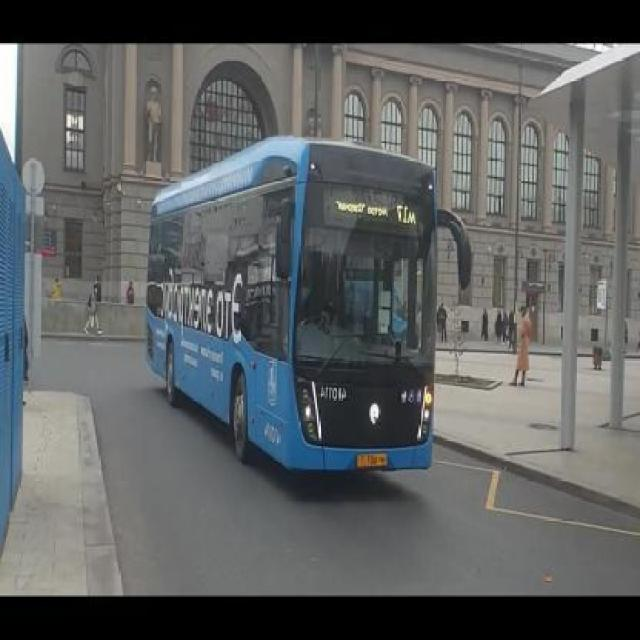bus: (154, 135, 473, 477)
